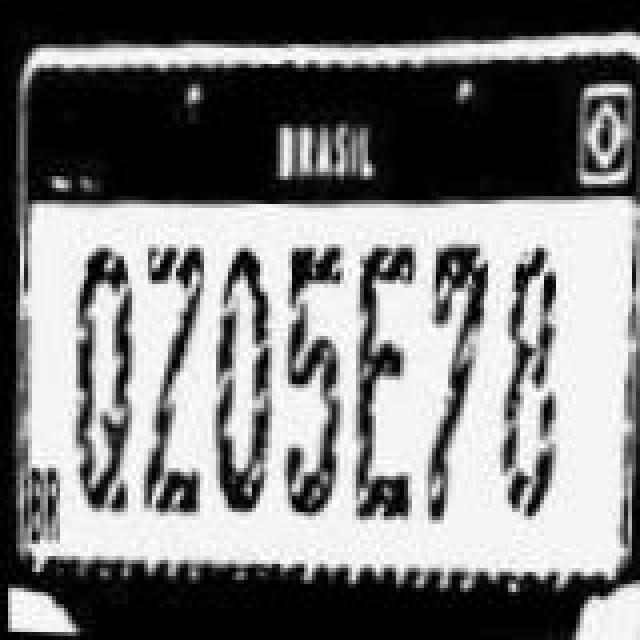5: (272, 242, 348, 518)
7: (420, 240, 488, 516)
8: (492, 242, 560, 522)
E: (342, 236, 422, 528)
O: (208, 240, 276, 512)
Q: (62, 240, 142, 516)
Z: (132, 236, 208, 524)
